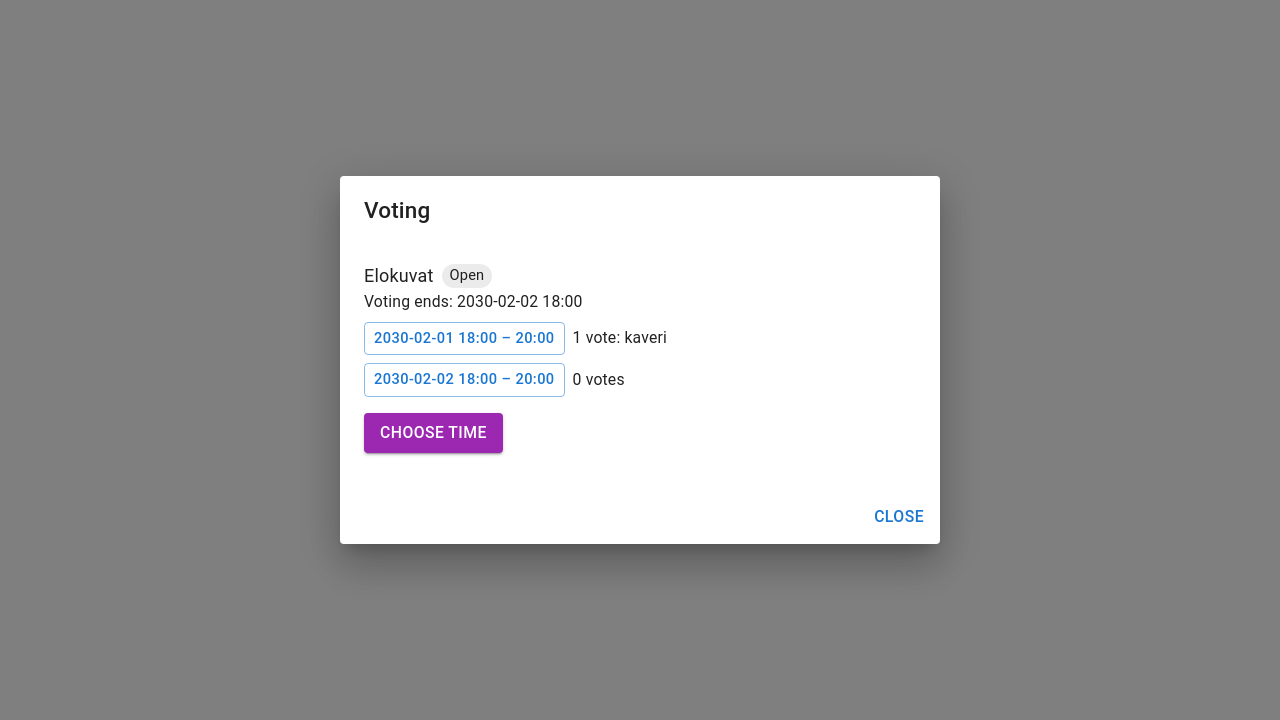
Scenario: VotingDialog › omistaja vahvistaa ajan ja tapahtuma päivittyy
Click the button "Choose time" at {"x": 433, "y": 433}, box [364,413,503,453]
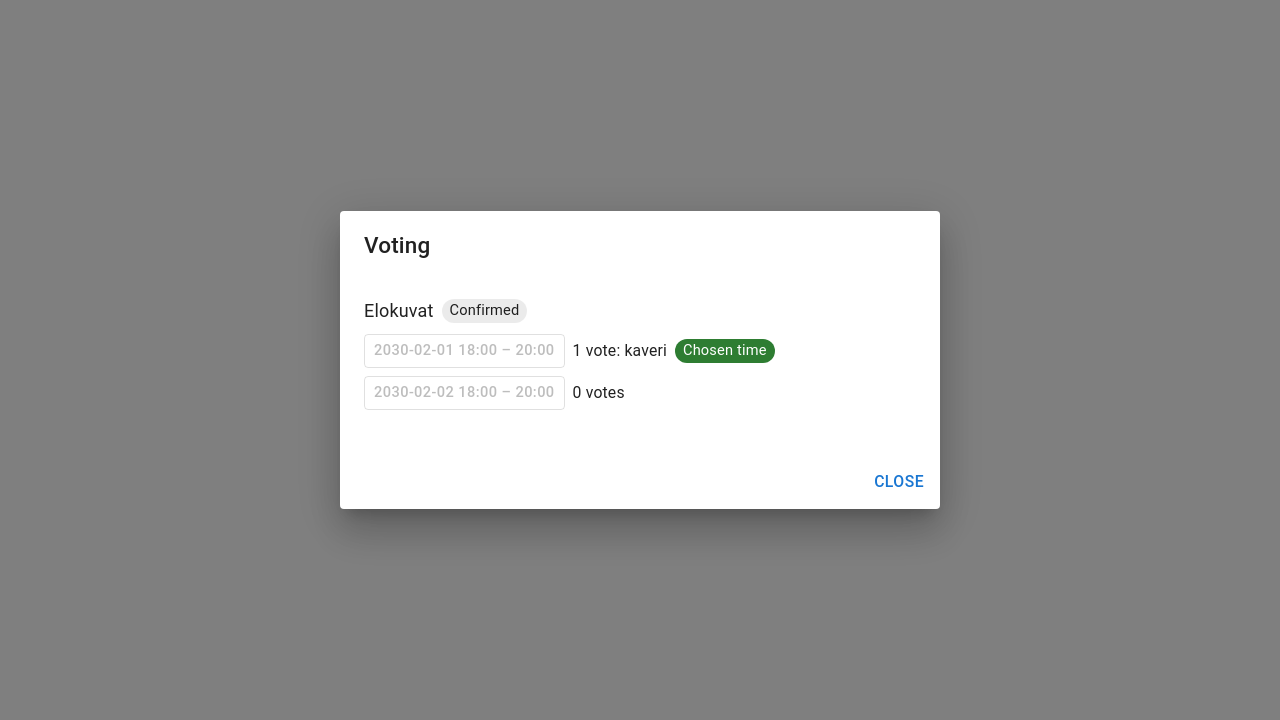
Expected: the text "Chosen time" is shown, [683,341,767,359]
Expected: the button "Choose time" is gone
